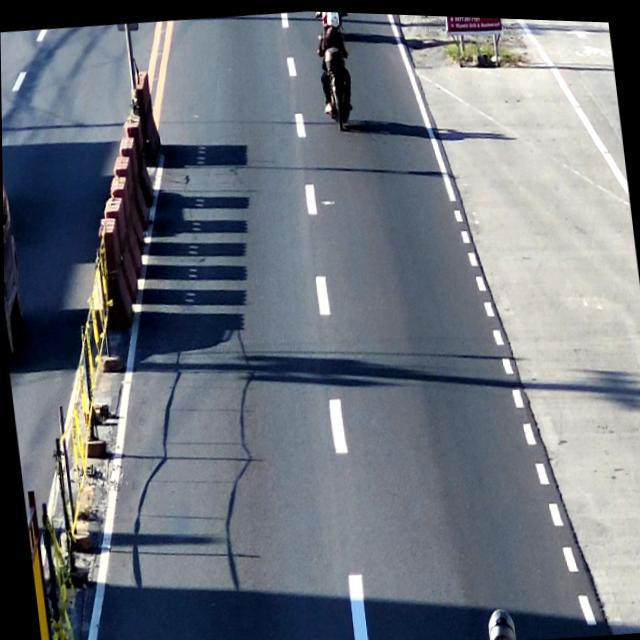Motorcycle: (308, 9, 360, 130)
